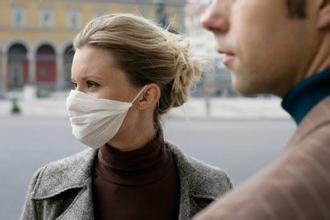NONE: (201, 1, 308, 93)
OK: (68, 65, 148, 149)
